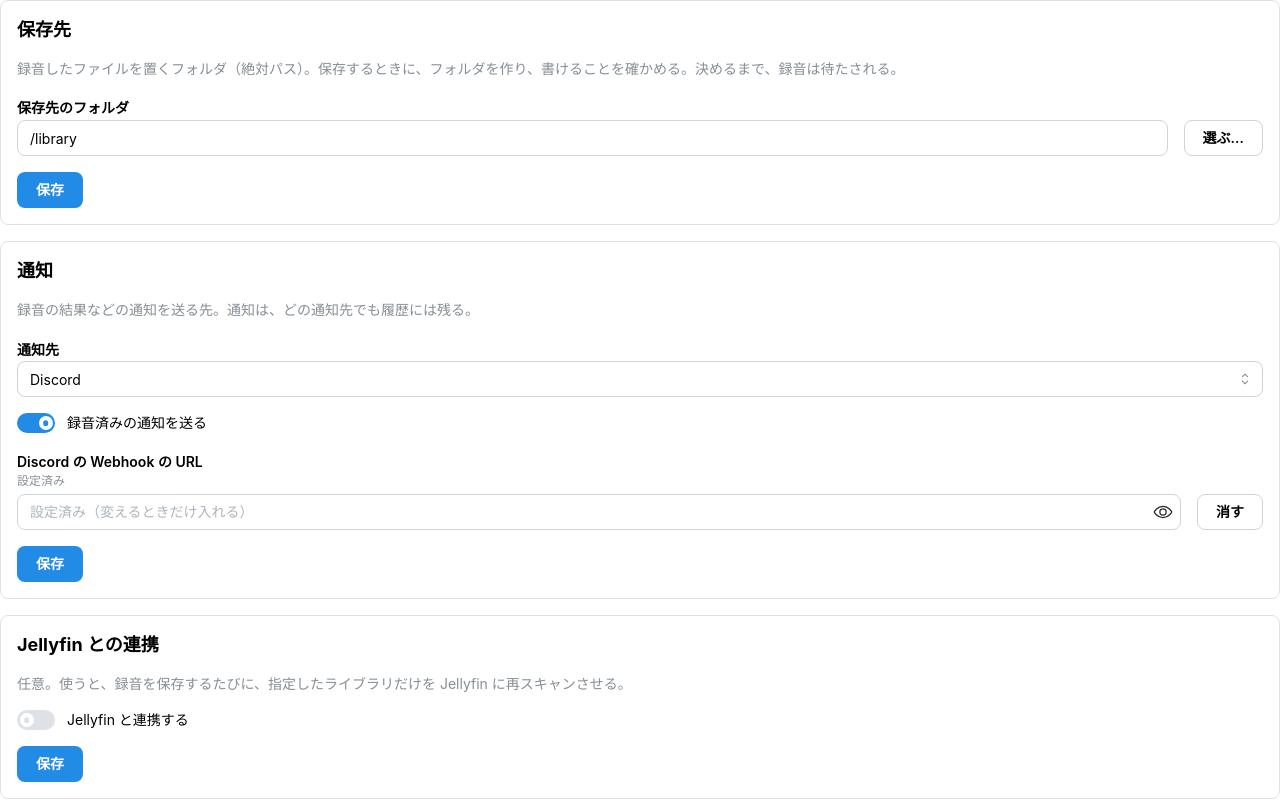
Scenario: SettingsPage › 保存に失敗したら、400 の理由を画面に出す
expect the field labelled "保存先のフォルダ" is shown: met, box [17,120,1168,156]
Click the button "保存" below "保存先のフォルダ".
click(50, 190)  # box [17,172,83,208]
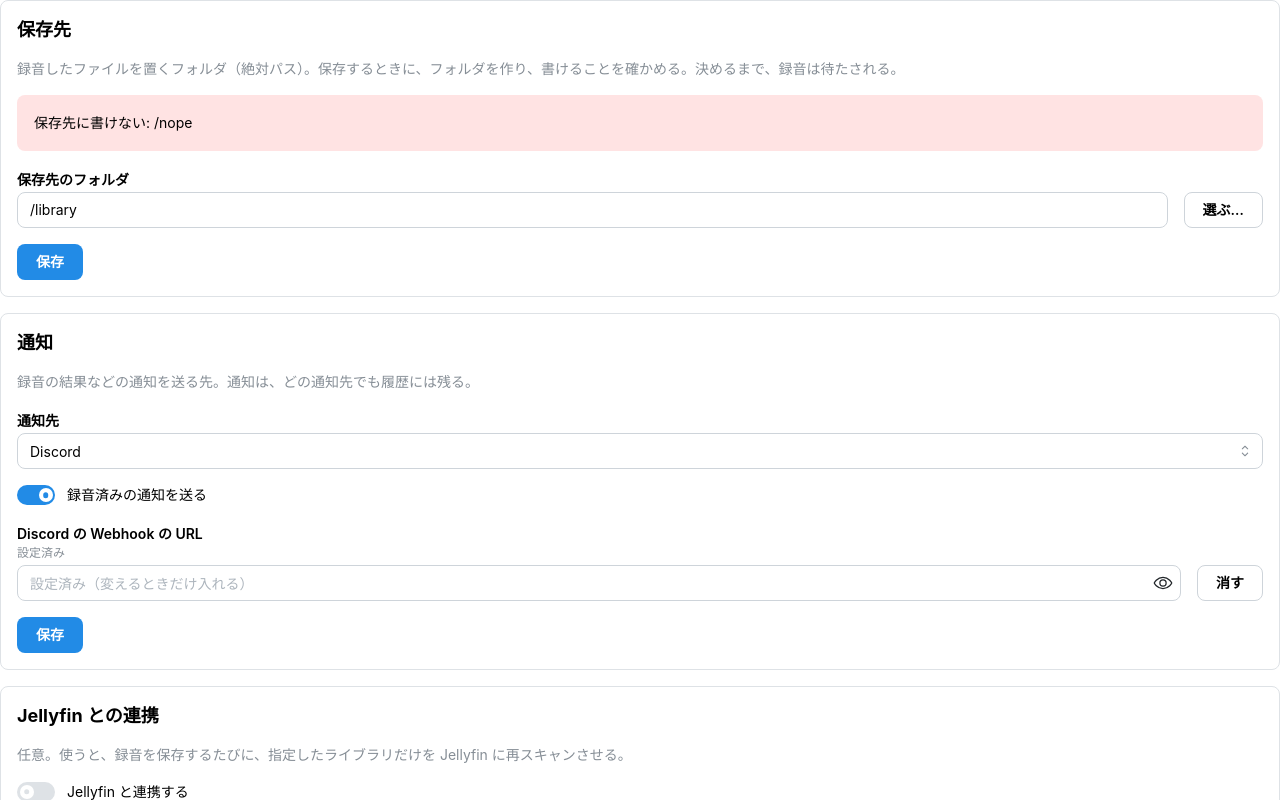
expect the message reads "保存先に書けない: /nope": met, box [34,114,192,131]
